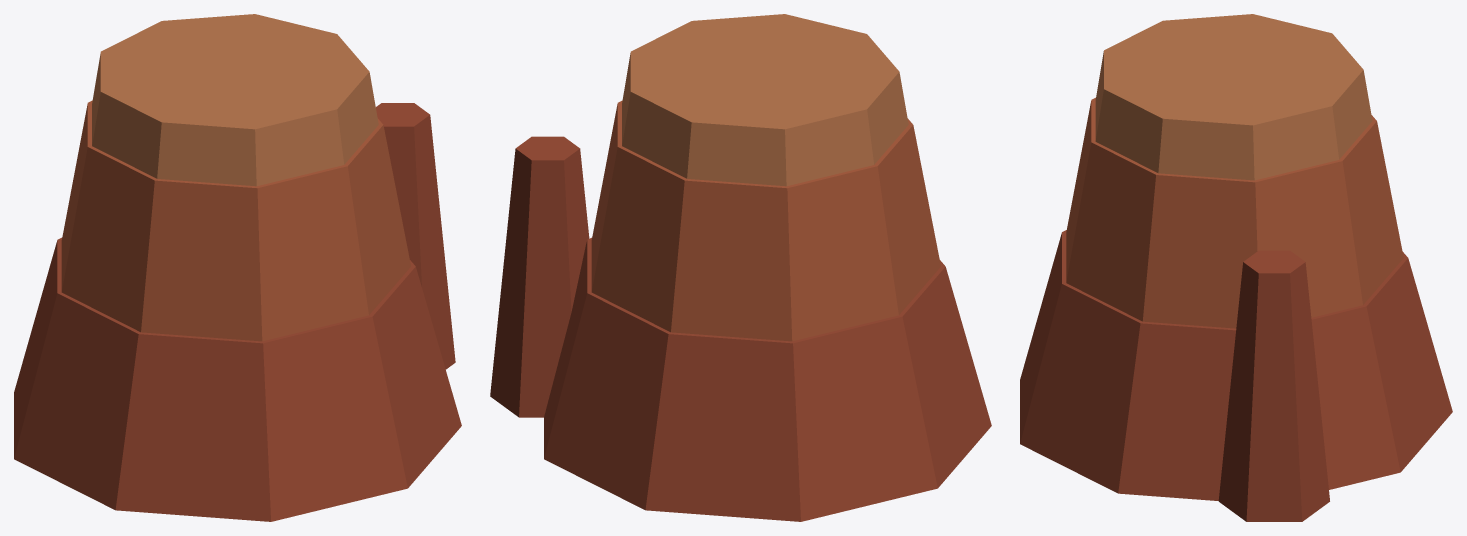
The model's file is mesa_a.glb.
3 renders of one model, left to right at view 1: azimuth 30°, elevation 25°; view 2: azimuth 150°, elevation 25°; view 3: azimuth 270°, elevation 25°, orthographic. The views are drawn at different scales.
Visible parts, largest first — view 1: mesa_a; view 2: mesa_a; view 3: mesa_a.
Part boxes in pixels (<box>): mesa_a: <box>14,14,461,521</box>; mesa_a: <box>490,14,991,521</box>; mesa_a: <box>1020,14,1452,521</box>.
Size of the model in its own units: 55.93 by 44 by 50.43.
